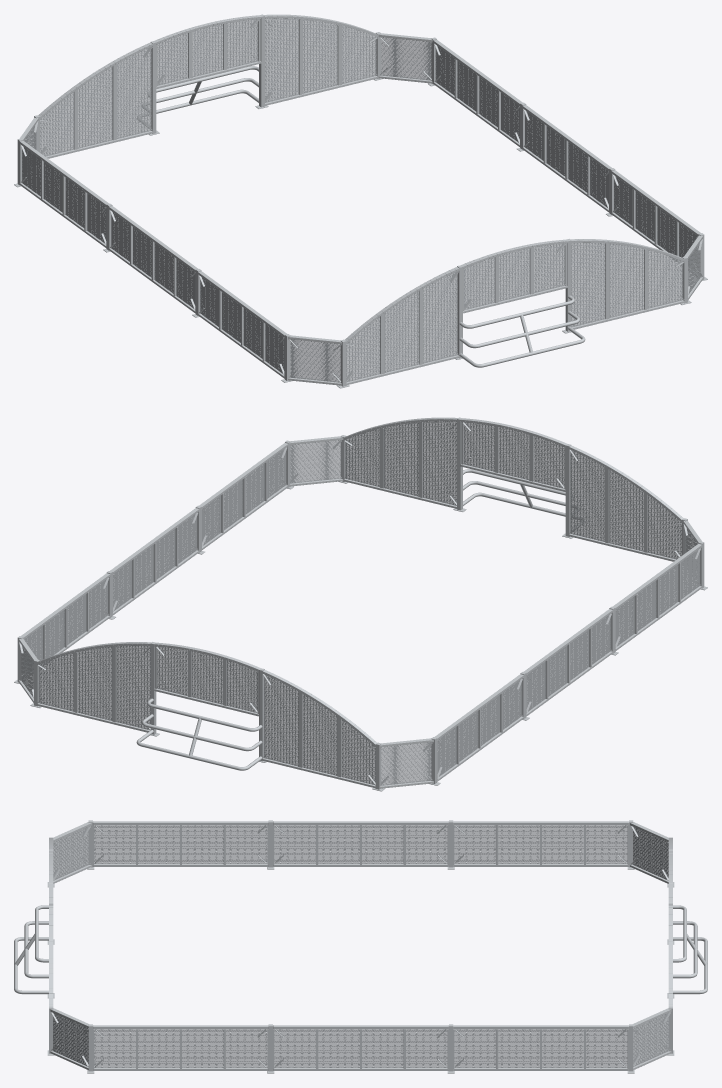
The model's file is boisko-p1.glb.
The picture shows the model from 3 angles, top to bottom: view 1: azimuth 30°, elevation 25°; view 2: azimuth 150°, elevation 25°; view 3: azimuth 270°, elevation 25°; orthographic projection.
Visible parts, largest first — view 1: K3_-1_1 blacha, K3_-1_-1 blacha, K3_1_1 blacha, K3_1_-1 blacha, K4_1 blacha, K4_-1 blacha, K1_-1_2 blacha, K1_1_1 blacha, K1_1_2 blacha, K1_-1_1 blacha, K1_-1_0 blacha, K1_1_0 blacha (+3 smaller); view 2: K3_1_1 blacha, K3_1_-1 blacha, K3_-1_1 blacha, K3_-1_-1 blacha, K4_-1 blacha, K4_1 blacha, K1_-1_0 blacha, K1_1_1 blacha, K1_1_0 blacha, K1_-1_1 blacha, K1_-1_2 blacha, K1_1_2 blacha (+3 smaller); view 3: K1_-1_1 blacha, K1_-1_0 blacha, K1_-1_2 blacha, K1_1_0 blacha, K1_1_2 blacha, K1_1_1 blacha, K2_1_-1 blacha, K2_1_1 blacha, K2_-1_-1 blacha, K2_-1_1 blacha, K1_-1_0 gorny, K1_-1_1 gorny (+14 smaller).
Part boxes in pixels (x1,y1,x2,y2): K3_-1_1 blacha: (571,243,683,326); K3_-1_-1 blacha: (346,272,457,381); K3_1_1 blacha: (265,18,376,102); K3_1_-1 blacha: (40,47,151,156); K4_1 blacha: (157,19,258,85); K4_-1 blacha: (464,243,564,309); K1_-1_2 blacha: (22,147,106,243); K1_1_1 blacha: (525,111,608,207); K1_1_2 blacha: (435,46,519,142); K1_-1_1 blacha: (111,212,195,308); K1_-1_0 blacha: (200,277,284,373); K1_1_0 blacha: (614,176,697,268); K3_1_1 blacha: (38,646,150,729); K3_1_-1 blacha: (264,675,375,784); K3_-1_1 blacha: (345,421,456,505); K3_-1_-1 blacha: (570,450,681,559); K4_-1 blacha: (463,422,564,488); K4_1 blacha: (157,646,257,712); K1_-1_0 blacha: (615,550,699,646); K1_1_1 blacha: (113,514,196,610); K1_1_0 blacha: (202,449,286,545); K1_-1_1 blacha: (526,615,610,711); K1_-1_2 blacha: (437,680,521,776); K1_1_2 blacha: (24,579,107,671); K1_-1_1 blacha: (274,825,447,863); K1_-1_0 blacha: (94,825,267,863); K1_-1_2 blacha: (454,825,627,863); K1_1_0 blacha: (94,1029,267,1067); K1_1_2 blacha: (454,1029,627,1067); K1_1_1 blacha: (274,1029,447,1067); K2_1_-1 blacha: (53,1013,88,1066); K2_1_1 blacha: (633,1013,668,1066); K2_-1_-1 blacha: (53,827,88,880); K2_-1_1 blacha: (633,827,668,880); K1_-1_0 gorny: (93,821,268,825); K1_-1_1 gorny: (273,821,448,825).
Size of the model in its own units: 5.65 by 1.22 by 7.94.
Materials: 4 (1 with a texture image).
